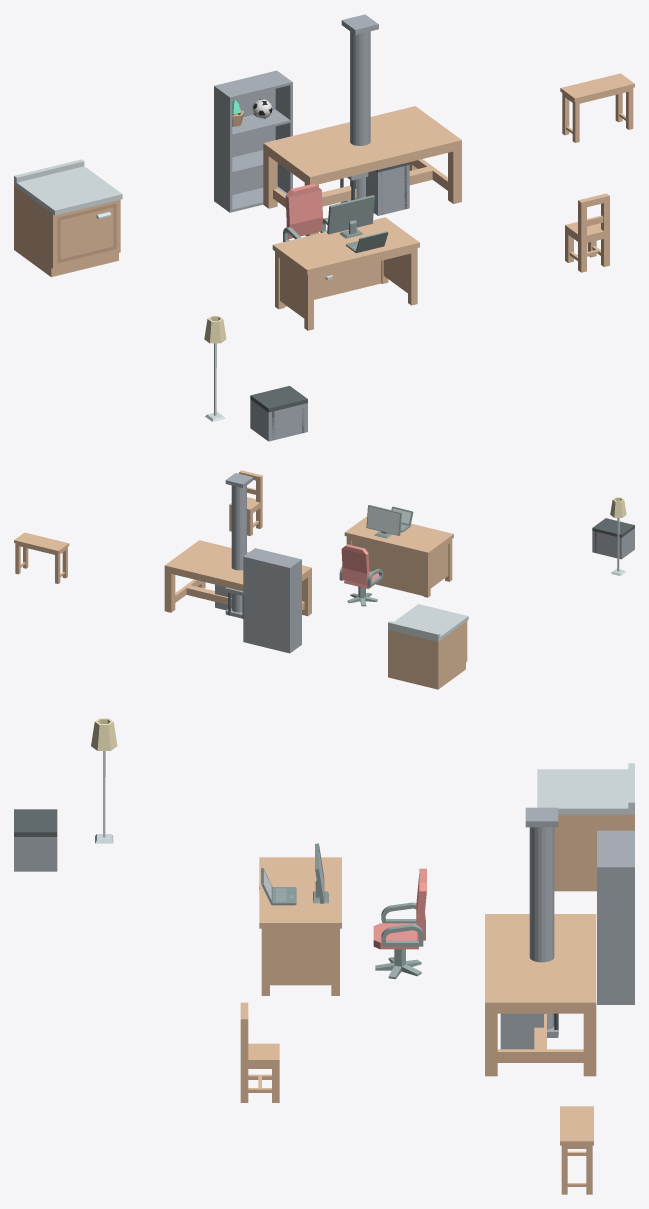
3 views of the same model, one above another, from view 1: azimuth 30°, elevation 25°; view 2: azimuth 150°, elevation 25°; view 3: azimuth 270°, elevation 25° (orthographic). The views are drawn at different scales.
Visible parts, largest first — view 1: table_green__table(Clone), desk_blue__desk(Clone), cabinet_blue__kitchenCabinet(Clone), cabinet_blue__door, column_cyan__column_cyan shaft, sidetable_brown__sideTable(Clone), chair_cyan__chair(Clone), shelf_orange__shelf_orange side_l, shelf_orange__shelf_orange back, deskchair_black__chair, bin_gray__bin_gray shell, crate_red__crate_red shell (+7 smaller); view 2: cabinet_blue__kitchenCabinet(Clone), desk_blue__desk(Clone), table_green__table(Clone), shelf_orange__shelf_orange back, column_cyan__column_cyan shaft, sidetable_brown__sideTable(Clone), deskchair_black__chair, shelf_orange__shelf_orange side_l, crate_red__crate_red shell, monitor_gray__computerScreen(Clone), chair_cyan__chair(Clone), lamp_white__lampRoundFloor(Clone) (+2 smaller); view 3: table_green__table(Clone), desk_blue__desk(Clone), cabinet_blue__kitchenCabinet(Clone), shelf_orange__shelf_orange side_r, column_cyan__column_cyan shaft, deskchair_black__chair, chair_cyan__chair(Clone), sidetable_brown__sideTable(Clone), crate_red__crate_red shell, bin_gray__bin_gray shell, crate_red__crate_red lid, shelf_orange__shelf_orange board3 (+4 smaller).
Part boxes in pixels (bbox=[...]): table_green__table(Clone): bbox=[263, 106, 461, 236]; desk_blue__desk(Clone): bbox=[272, 217, 419, 330]; cabinet_blue__kitchenCabinet(Clone): bbox=[14, 159, 122, 277]; cabinet_blue__door: bbox=[57, 203, 116, 263]; column_cyan__column_cyan shaft: bbox=[350, 31, 370, 199]; sidetable_brown__sideTable(Clone): bbox=[560, 73, 634, 142]; chair_cyan__chair(Clone): bbox=[565, 193, 609, 272]; shelf_orange__shelf_orange side_l: bbox=[214, 85, 232, 212]; shelf_orange__shelf_orange back: bbox=[216, 71, 275, 194]; deskchair_black__chair: bbox=[283, 183, 328, 241]; bin_gray__bin_gray shell: bbox=[366, 165, 409, 215]; crate_red__crate_red shell: bbox=[250, 399, 307, 441]; cabinet_blue__kitchenCabinet(Clone): bbox=[388, 604, 468, 689]; desk_blue__desk(Clone): bbox=[344, 516, 453, 597]; table_green__table(Clone): bbox=[164, 540, 311, 616]; shelf_orange__shelf_orange back: bbox=[245, 556, 288, 652]; column_cyan__column_cyan shaft: bbox=[231, 485, 246, 612]; sidetable_brown__sideTable(Clone): bbox=[14, 532, 69, 583]; deskchair_black__chair: bbox=[339, 544, 383, 588]; shelf_orange__shelf_orange side_l: bbox=[288, 559, 301, 653]; crate_red__crate_red shell: bbox=[592, 528, 634, 559]; monitor_gray__computerScreen(Clone): bbox=[366, 505, 401, 538]; chair_cyan__chair(Clone): bbox=[229, 470, 262, 536]; lamp_white__lampRoundFloor(Clone): bbox=[610, 497, 626, 575]; table_green__table(Clone): bbox=[485, 914, 596, 1076]; desk_blue__desk(Clone): bbox=[259, 857, 341, 995]; cabinet_blue__kitchenCabinet(Clone): bbox=[537, 763, 634, 891]; shelf_orange__shelf_orange side_r: bbox=[597, 866, 634, 1004]; column_cyan__column_cyan shaft: bbox=[529, 827, 554, 1029]; deskchair_black__chair: bbox=[373, 868, 426, 949]; chair_cyan__chair(Clone): bbox=[240, 1002, 279, 1102]; sidetable_brown__sideTable(Clone): bbox=[560, 1106, 593, 1194]; crate_red__crate_red shell: bbox=[14, 837, 57, 871]; bin_gray__bin_gray shell: bbox=[500, 1013, 543, 1049]; crate_red__crate_red lid: bbox=[14, 809, 57, 836]; shelf_orange__shelf_orange board3: bbox=[597, 832, 632, 865].
Size of the model in its own units: 7.86 by 2.2 by 5.72.
